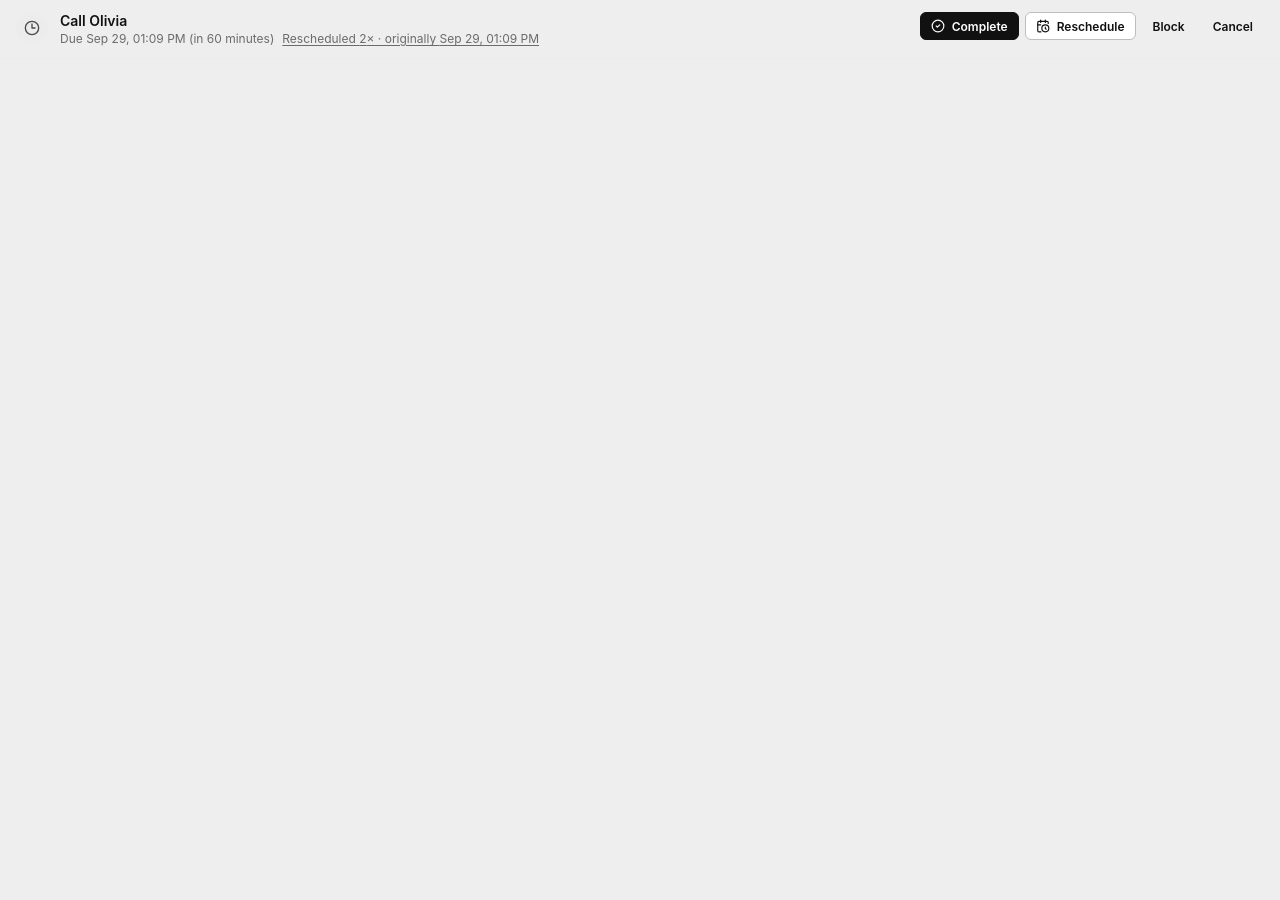
Test case: rescheduling a task › shows the reschedule history with the original deadline
The width and height of the screenshot is (1280, 900).
Click the button "Rescheduled 2× · originally Sep 29, 01:09 PM" at (411, 38), box x1=282 y1=31 x2=539 y2=46
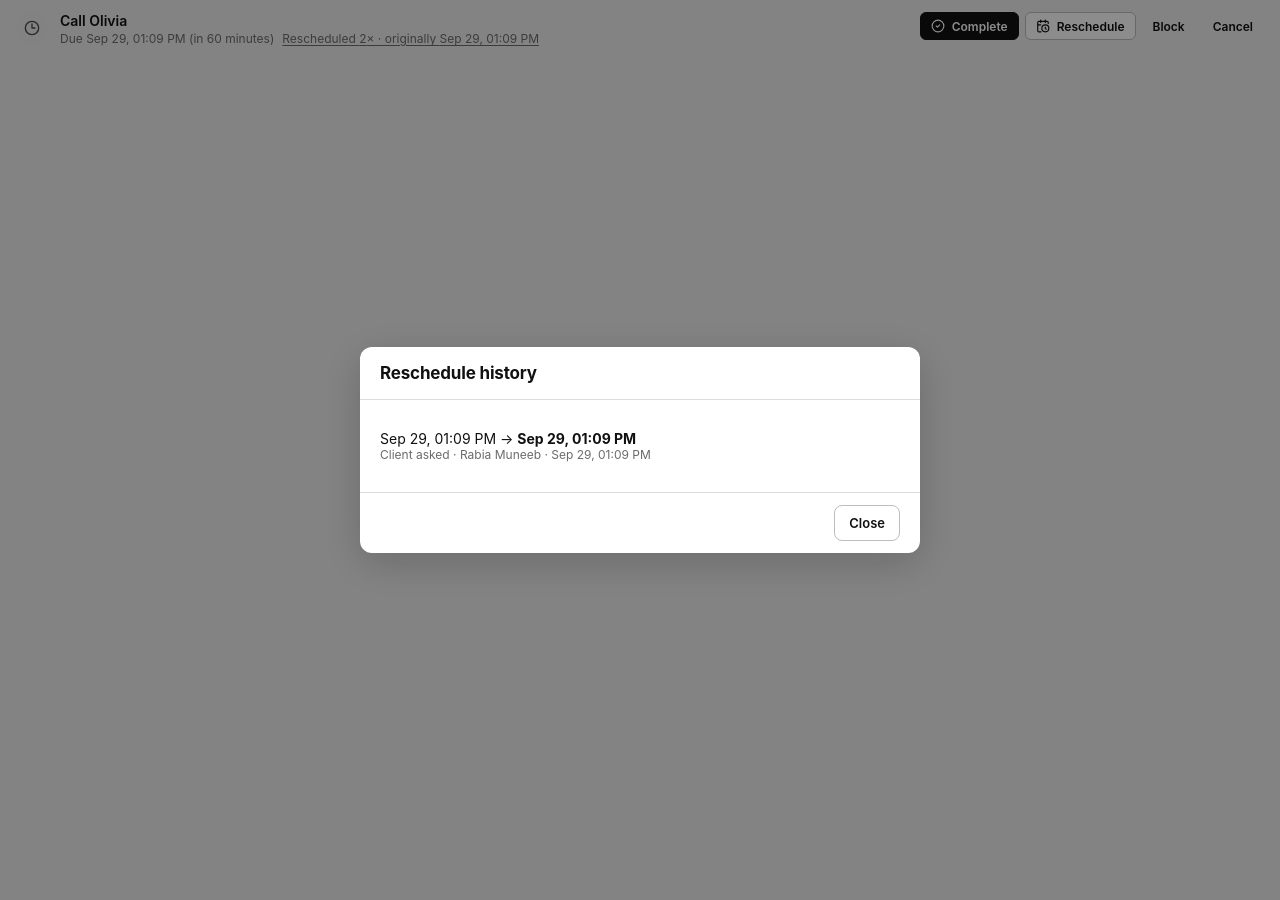
Expected: the heading "Reschedule history" is shown, x1=380 y1=363 x2=537 y2=383
Expected: the text "Client asked · Rabia Muneeb · Sep 29, 01:09 PM" is shown, x1=380 y1=447 x2=651 y2=462
